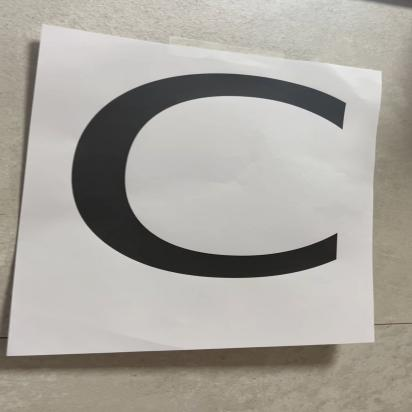seat: (35, 6, 369, 374)
